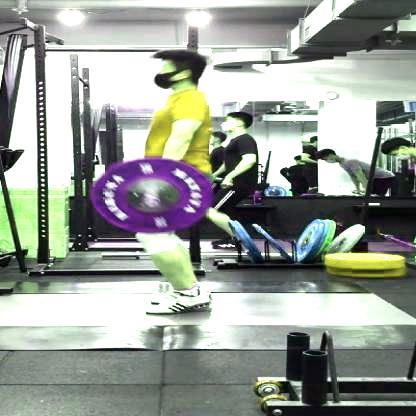Barbell: (138, 195, 169, 212)
